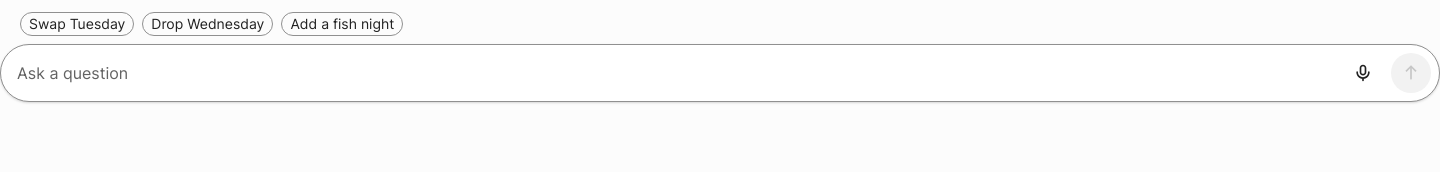
AgentInput › Suggestions (decision 0046) › is hidden while the field has text
Type "Swap" into the text box named "agent input".
click(676, 73); type("Swap")  # box [17,49,1335,97]
Wait 400 ms
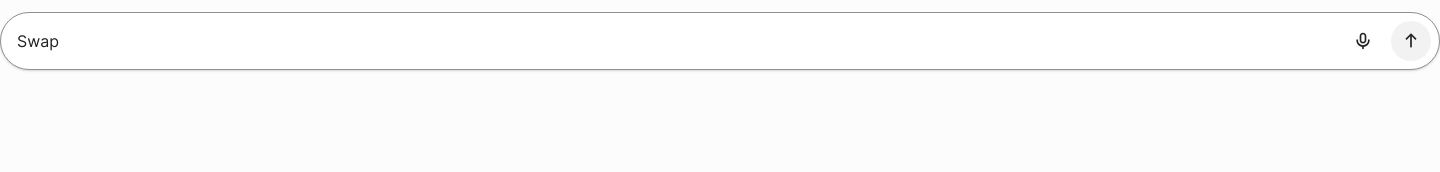
Expected: the list "Suggestions" is gone
